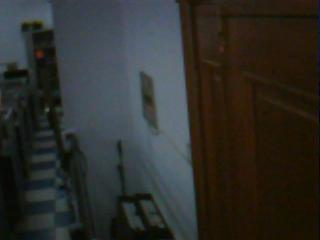oball: (36, 49, 42, 55)
